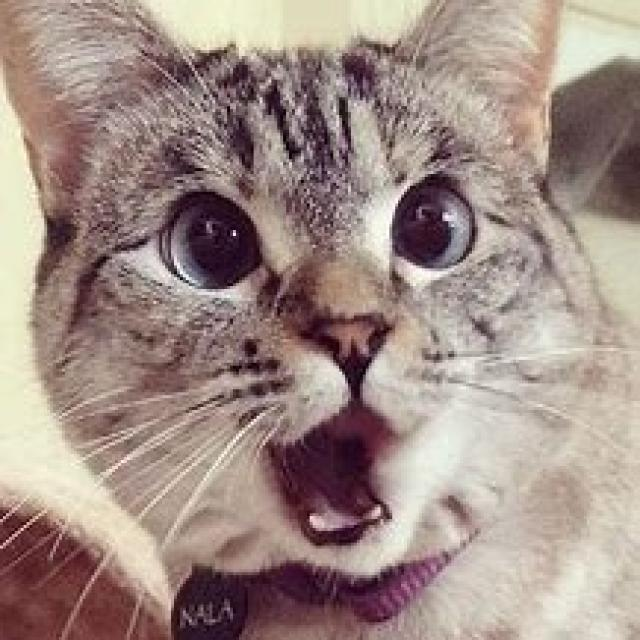Surprised: (106, 151, 537, 580)
